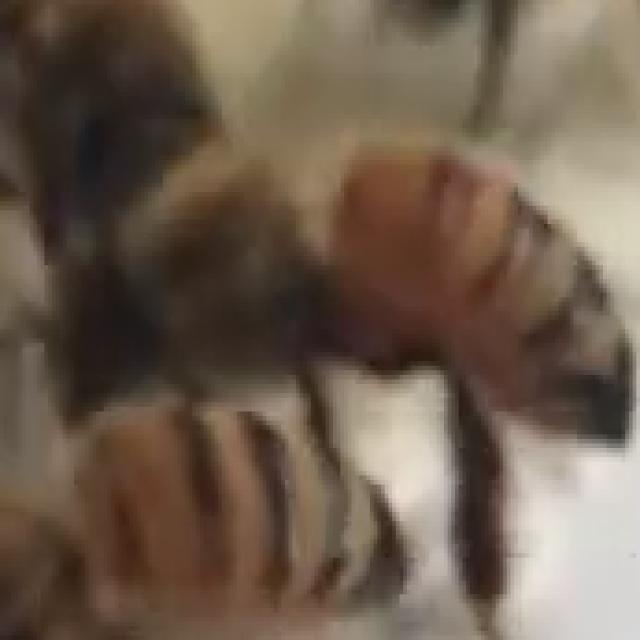honeybee: (51, 91, 604, 524)
